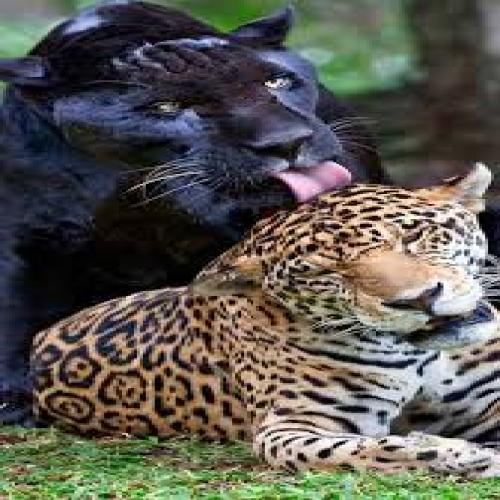panther-endangered: (8, 4, 371, 352)
